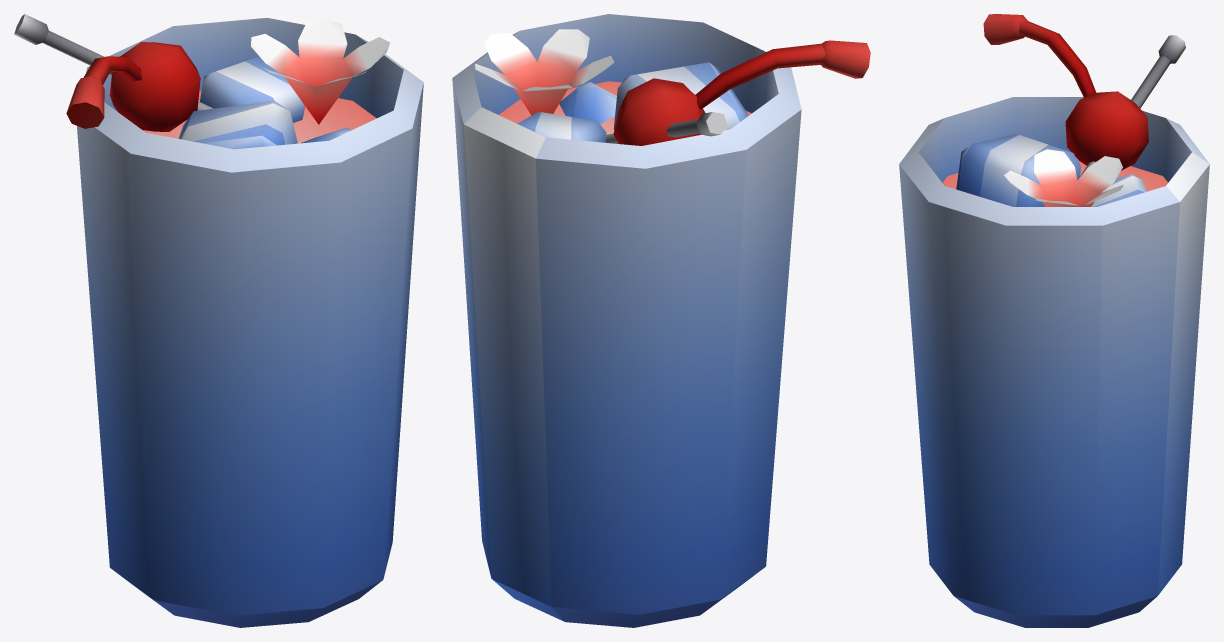
The model's file is m_Cocktail20.fbx.
3 renders of one model, left to right at view 1: azimuth 30°, elevation 25°; view 2: azimuth 150°, elevation 25°; view 3: azimuth 270°, elevation 25°, orthographic. The views are drawn at different scales.
Parts seen in each view (by area): view 1: m_Cocktail20; view 2: m_Cocktail20; view 3: m_Cocktail20.
Boxes of the visible parts, x1,y1,x2,y2 form: m_Cocktail20: [14, 14, 423, 627]; m_Cocktail20: [452, 14, 870, 627]; m_Cocktail20: [899, 14, 1209, 627].
Bounding box in the file's own units: 15.12 × 22.72 × 12.98.
